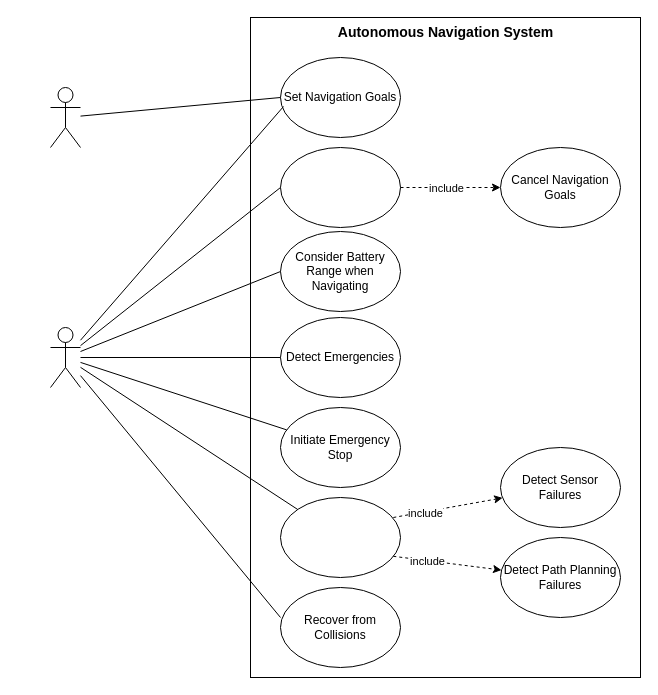
This 658x695 diagram has some shape labels left out. Each missing label, with the centre of its shape:
Actor: pixel 65 117
Behavior Planning: pixel 65 357
Monitor System Health: pixel 340 537
Override Navigation Goals: pixel 340 187
